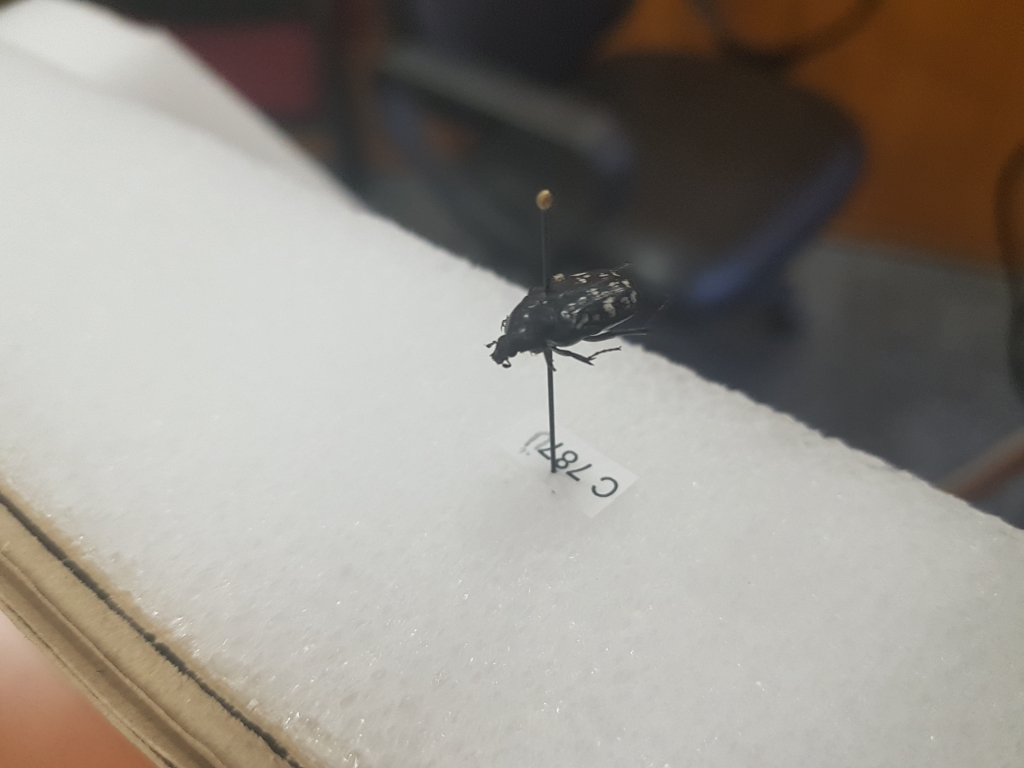Oxythyrea_albopicta: (483, 244, 660, 381)
